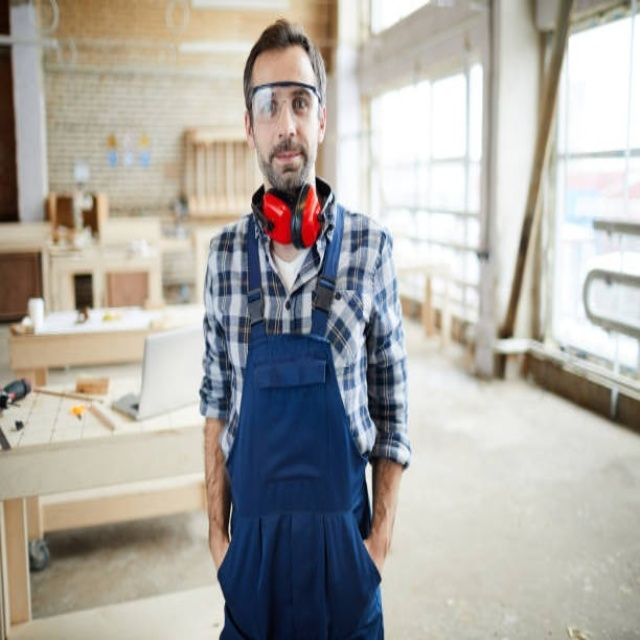Gafas: (248, 83, 322, 123)
Sin_mascara: (266, 138, 306, 177)
